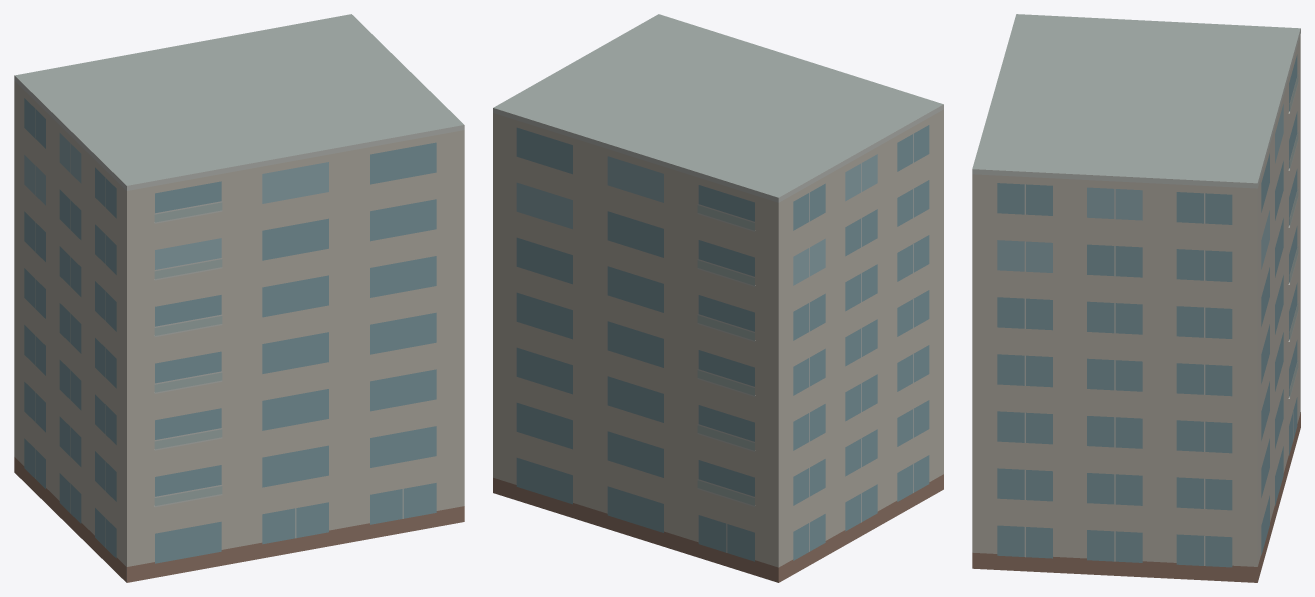
The model's file is survey-upis-32672203.glb.
3 renders of one model, left to right at view 1: azimuth 30°, elevation 25°; view 2: azimuth 150°, elevation 25°; view 3: azimuth 270°, elevation 25°, orthographic. The views are drawn at different scales.
Parts seen in each view (by area): view 1: survey-upis-32672203.tmp; view 2: survey-upis-32672203.tmp; view 3: survey-upis-32672203.tmp.
Boxes of the visible parts, bbox=[...] form: survey-upis-32672203.tmp: bbox=[14, 14, 464, 582]; survey-upis-32672203.tmp: bbox=[493, 14, 943, 582]; survey-upis-32672203.tmp: bbox=[972, 14, 1300, 582].
Bounding box in the file's own units: 17.01 × 18.7 × 13.94.
